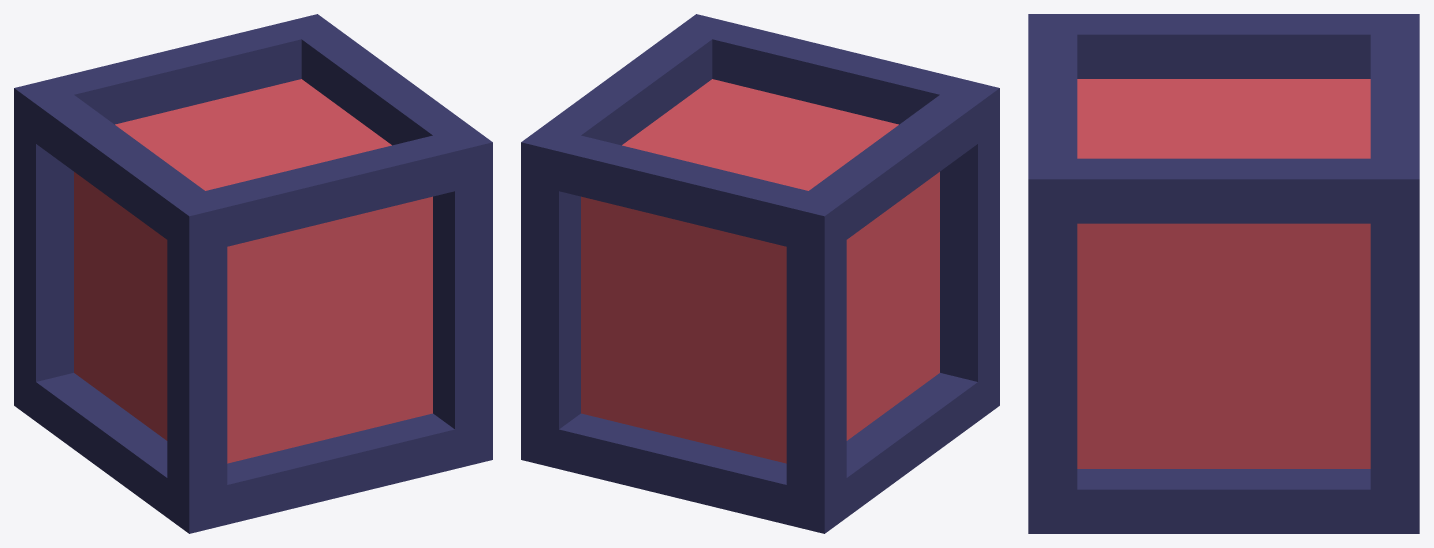
File: corner_2.gltf
The picture shows the model from 3 angles, left to right: view 1: azimuth 30°, elevation 25°; view 2: azimuth 150°, elevation 25°; view 3: azimuth 270°, elevation 25°; orthographic projection. The views are drawn at different scales.
Visible parts, largest first — view 1: Layer.1; view 2: Layer.1; view 3: Layer.1.
Boxes of the visible parts, x1,y1,x2,y2 form: Layer.1: (14,14,492,533); Layer.1: (521,14,999,533); Layer.1: (1028,14,1419,533).
Size of the model in its own units: 8 by 8 by 8.
1 material, 1 textured.
